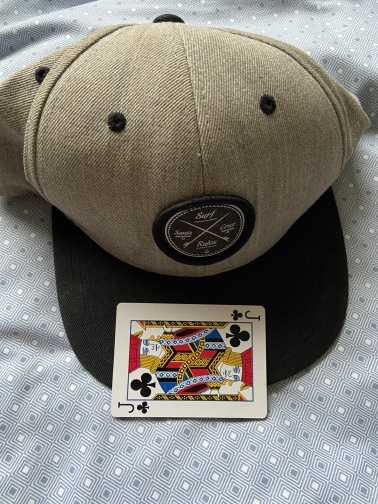jack: (109, 301, 268, 420)
